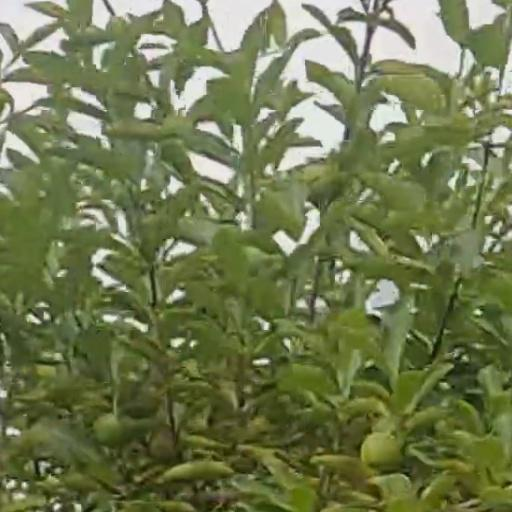acerola_verde: (361, 432, 400, 469)
